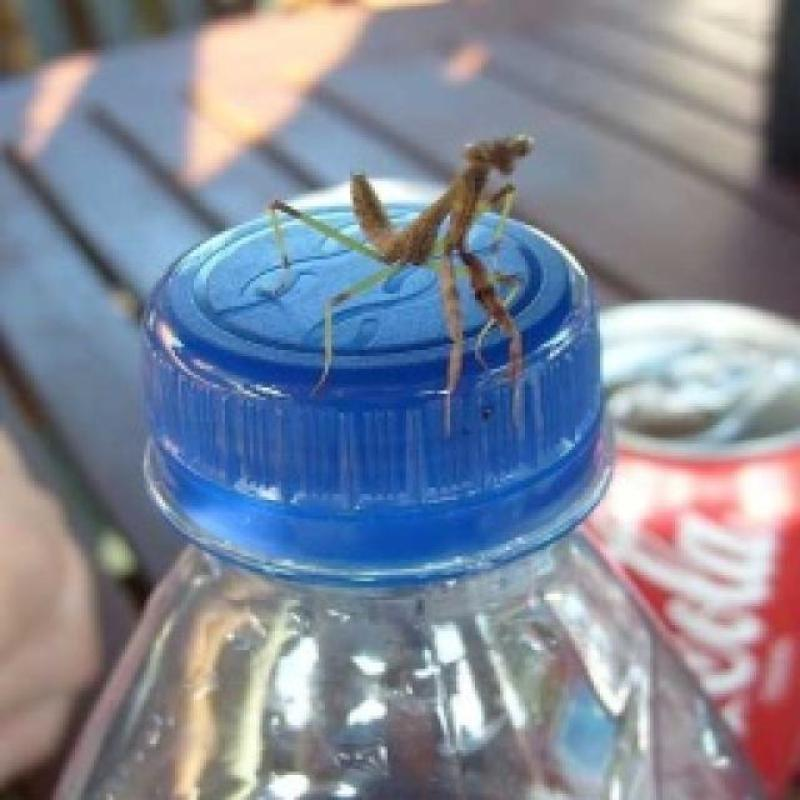botella: (58, 202, 758, 800)
